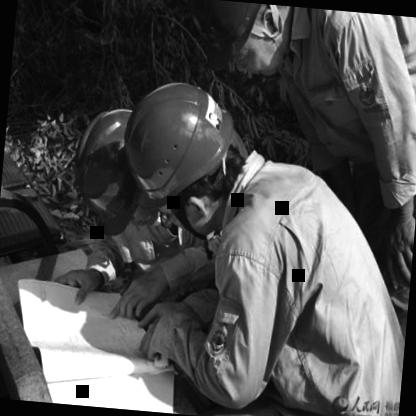helmet: (115, 73, 246, 239), (66, 104, 172, 245), (179, 0, 299, 81)
